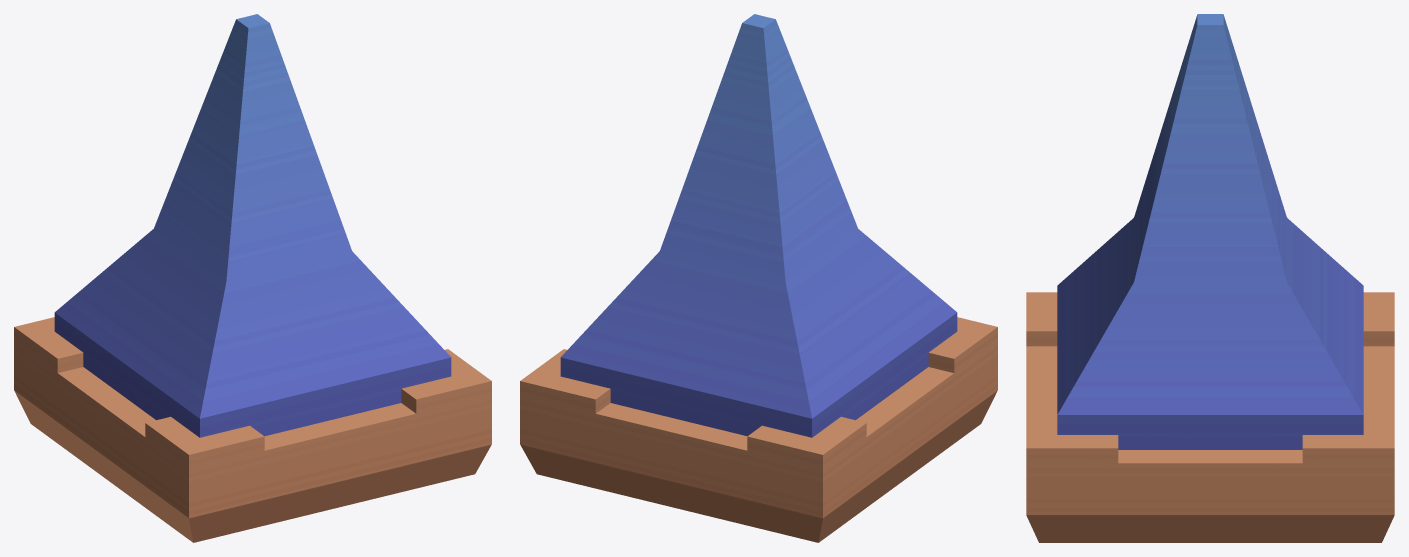
Rendered from m_towerTop.glb.
3 renders of one model, left to right at view 1: azimuth 30°, elevation 25°; view 2: azimuth 150°, elevation 25°; view 3: azimuth 270°, elevation 25°, orthographic. The views are drawn at different scales.
Visible parts, largest first — view 1: tower-square-top-roof-high; view 2: tower-square-top-roof-high; view 3: tower-square-top-roof-high.
Part boxes in pixels (x1=…): tower-square-top-roof-high: x1=14, y1=14, x2=491, y2=542; tower-square-top-roof-high: x1=520, y1=14, x2=997, y2=542; tower-square-top-roof-high: x1=1026, y1=14, x2=1394, y2=542.
Size of the model in its own units: 0.9999 by 1.35 by 0.9999.
Materials: 1 (1 with a texture image).
